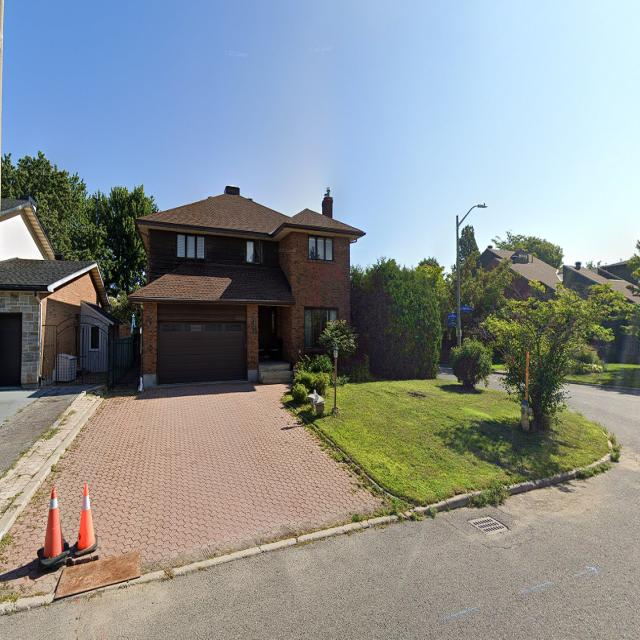Door: (259, 306, 293, 381)
curb: (0, 445, 617, 619)
obstacle: (38, 484, 100, 571), (309, 328, 342, 419)
walkways: (2, 387, 427, 602)
